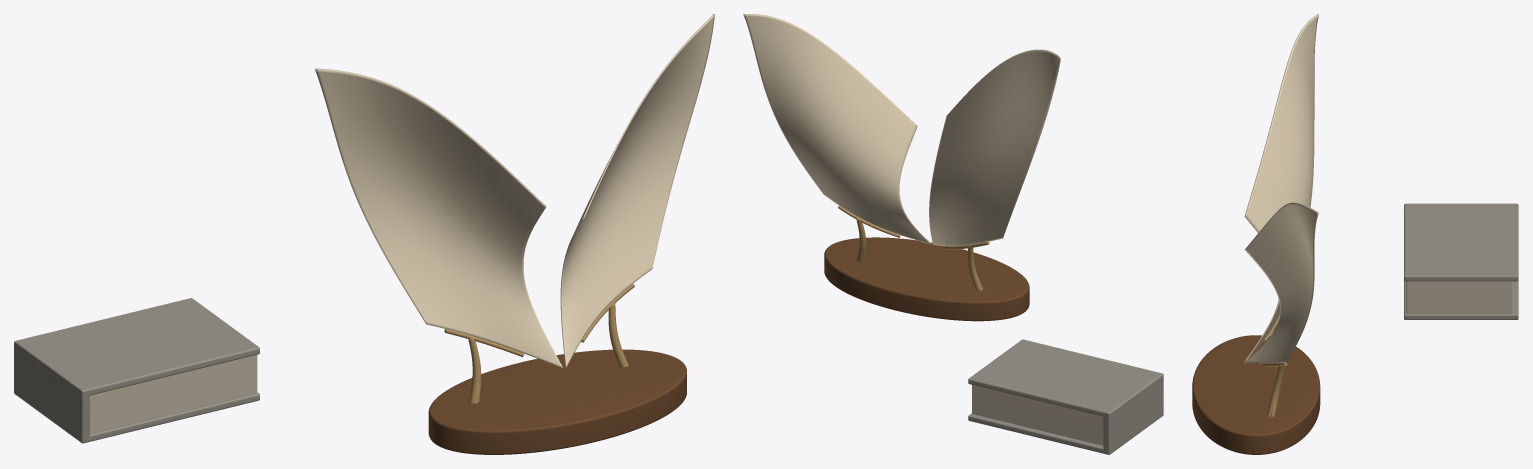
File: page_at_rest.glb
3 renders of one model, left to right at view 1: azimuth 30°, elevation 25°; view 2: azimuth 150°, elevation 25°; view 3: azimuth 270°, elevation 25°, orthographic. The views are drawn at different scales.
Parts seen in each view (by area): view 1: LeftPage, WalnutBase, RightPage, BookUpperCover, BookPages, BookSpine, BookLowerCover, LeftBrassCradle, RightBrassCradle; view 2: RightPage, LeftPage, WalnutBase, BookUpperCover, BookPages, BookSpine, BookLowerCover, RightBrassCradle, LeftBrassCradle; view 3: WalnutBase, BookUpperCover, LeftPage, RightPage, BookPages, BookLowerCover, RightBrassCradle.
Boxes of the visible parts, x1,y1,x2,y2 form: LeftPage: [315, 68, 562, 367]; WalnutBase: [428, 349, 686, 454]; RightPage: [560, 14, 714, 367]; BookUpperCover: [14, 298, 259, 395]; BookPages: [90, 355, 257, 433]; BookSpine: [14, 347, 89, 438]; BookLowerCover: [14, 389, 259, 443]; LeftBrassCradle: [444, 329, 523, 403]; RightBrassCradle: [581, 284, 634, 367]; RightPage: [743, 14, 931, 244]; LeftPage: [929, 49, 1060, 246]; WalnutBase: [824, 237, 1029, 321]; BookUpperCover: [968, 339, 1163, 417]; BookPages: [972, 385, 1103, 445]; BookSpine: [1103, 378, 1163, 451]; BookLowerCover: [968, 412, 1163, 454]; RightBrassCradle: [838, 205, 900, 261]; LeftBrassCradle: [945, 241, 989, 290]; WalnutBase: [1192, 335, 1320, 454]; BookUpperCover: [1404, 203, 1518, 281]; LeftPage: [1244, 14, 1318, 361]; RightPage: [1244, 202, 1318, 363]; BookPages: [1406, 281, 1512, 313]; BookLowerCover: [1404, 280, 1518, 319]; RightBrassCradle: [1262, 363, 1287, 416].
Bounding box in the file's own units: 0.3415 × 0.207 × 0.199.
